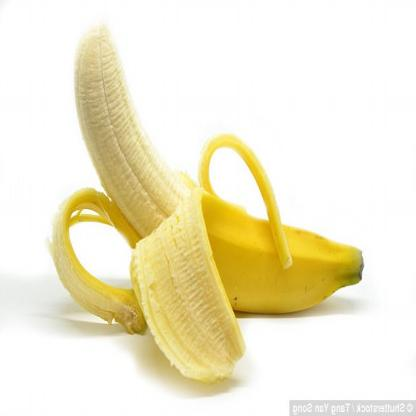banana: (47, 20, 368, 324)
